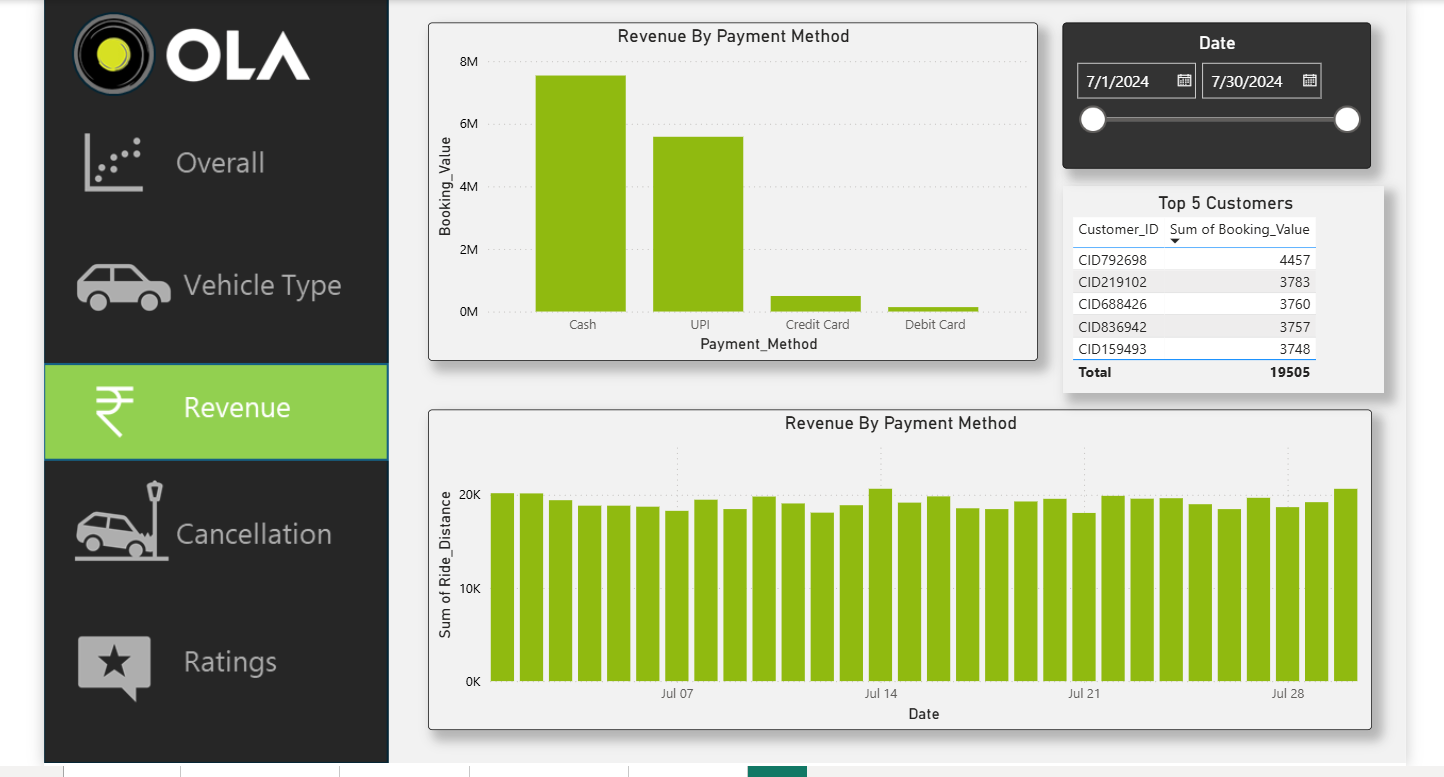

The page's visual inventory and layout, read from the dashboard file:
{"tool":"powerbi","page":{"name":"Revenue","canvas":[1280,720],"ordinal":2},"visuals":[{"type":"actionButton","box":[0,220.4,320.4,90.7],"z":0},{"type":"actionButton","box":[10,230.4,320.4,90.7],"z":1000},{"type":"actionButton","box":[0,339.2,320.4,90.7],"z":2000},{"type":"actionButton","box":[0,443.9,320.4,90.7],"z":3000},{"type":"actionButton","box":[0,573.6,320.4,90.7],"z":4000},{"type":"actionButton","box":[0,106.3,320.4,90.7],"z":5000},{"type":"columnChart","title":"Revenue By Payment Method","fields":{"Y":["Sum(ola_bookings.Booking_Value)"],"Category":["ola_bookings.Payment_Method"]},"box":[360.3,21.3,573.1,317.7],"z":6000},{"type":"columnChart","title":"Revenue By Payment Method","fields":{"Category":["ola_bookings.Date"],"Y":["Sum(ola_bookings.Ride_Distance)"]},"box":[360.3,384.8,887.6,301.3],"z":7000},{"type":"slicer","title":"Date","fields":{"Values":["ola_bookings.Date"]},"box":[958,21.3,289.8,137.6],"z":8000},{"type":"tableEx","title":"Top 5 Customers","fields":{"Values":["ola_bookings.Customer_ID","Sum(ola_bookings.Booking_Value)"]},"box":[958,175.2,302.9,194.9],"z":9000}]}

Visuals, with their boxes on the page's 1280x720 design canvas (x1, y1, x2, y2). These are canvas units, not pixel positions in the 1444x777 screenshot, which may show the page scaled, cropped or inside an application window:
actionButton: <bbox>0, 220, 320, 311</bbox>
actionButton: <bbox>10, 230, 330, 321</bbox>
actionButton: <bbox>0, 339, 320, 430</bbox>
actionButton: <bbox>0, 444, 320, 535</bbox>
actionButton: <bbox>0, 574, 320, 664</bbox>
actionButton: <bbox>0, 106, 320, 197</bbox>
"Revenue By Payment Method" columnChart: <bbox>360, 21, 933, 339</bbox>
"Revenue By Payment Method" columnChart: <bbox>360, 385, 1248, 686</bbox>
"Date" slicer: <bbox>958, 21, 1248, 159</bbox>
"Top 5 Customers" tableEx: <bbox>958, 175, 1261, 370</bbox>
